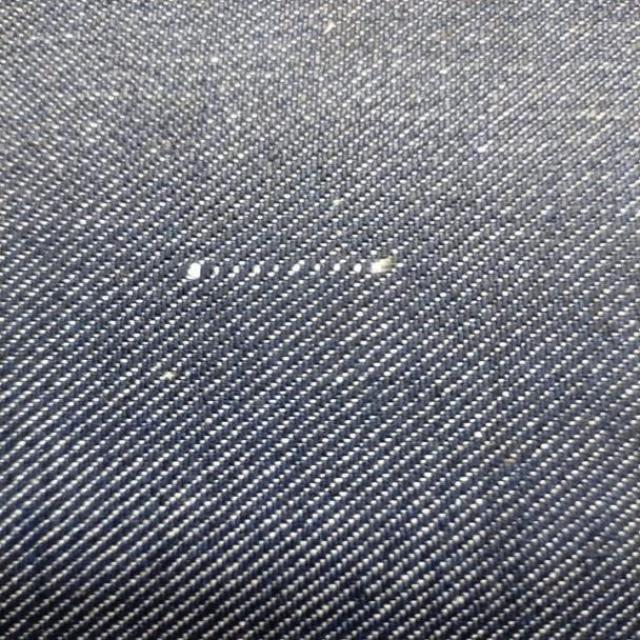Knot: (287, 255, 398, 277), (185, 260, 223, 281), (246, 261, 284, 278), (228, 263, 247, 277)
